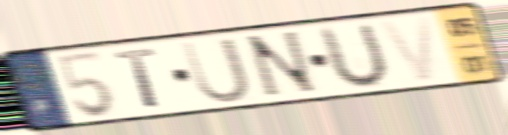5: (53, 48, 116, 121)
N: (242, 28, 324, 102)
T: (111, 46, 163, 111)
U: (317, 20, 392, 93), (178, 35, 254, 107)
V: (376, 14, 438, 85)
